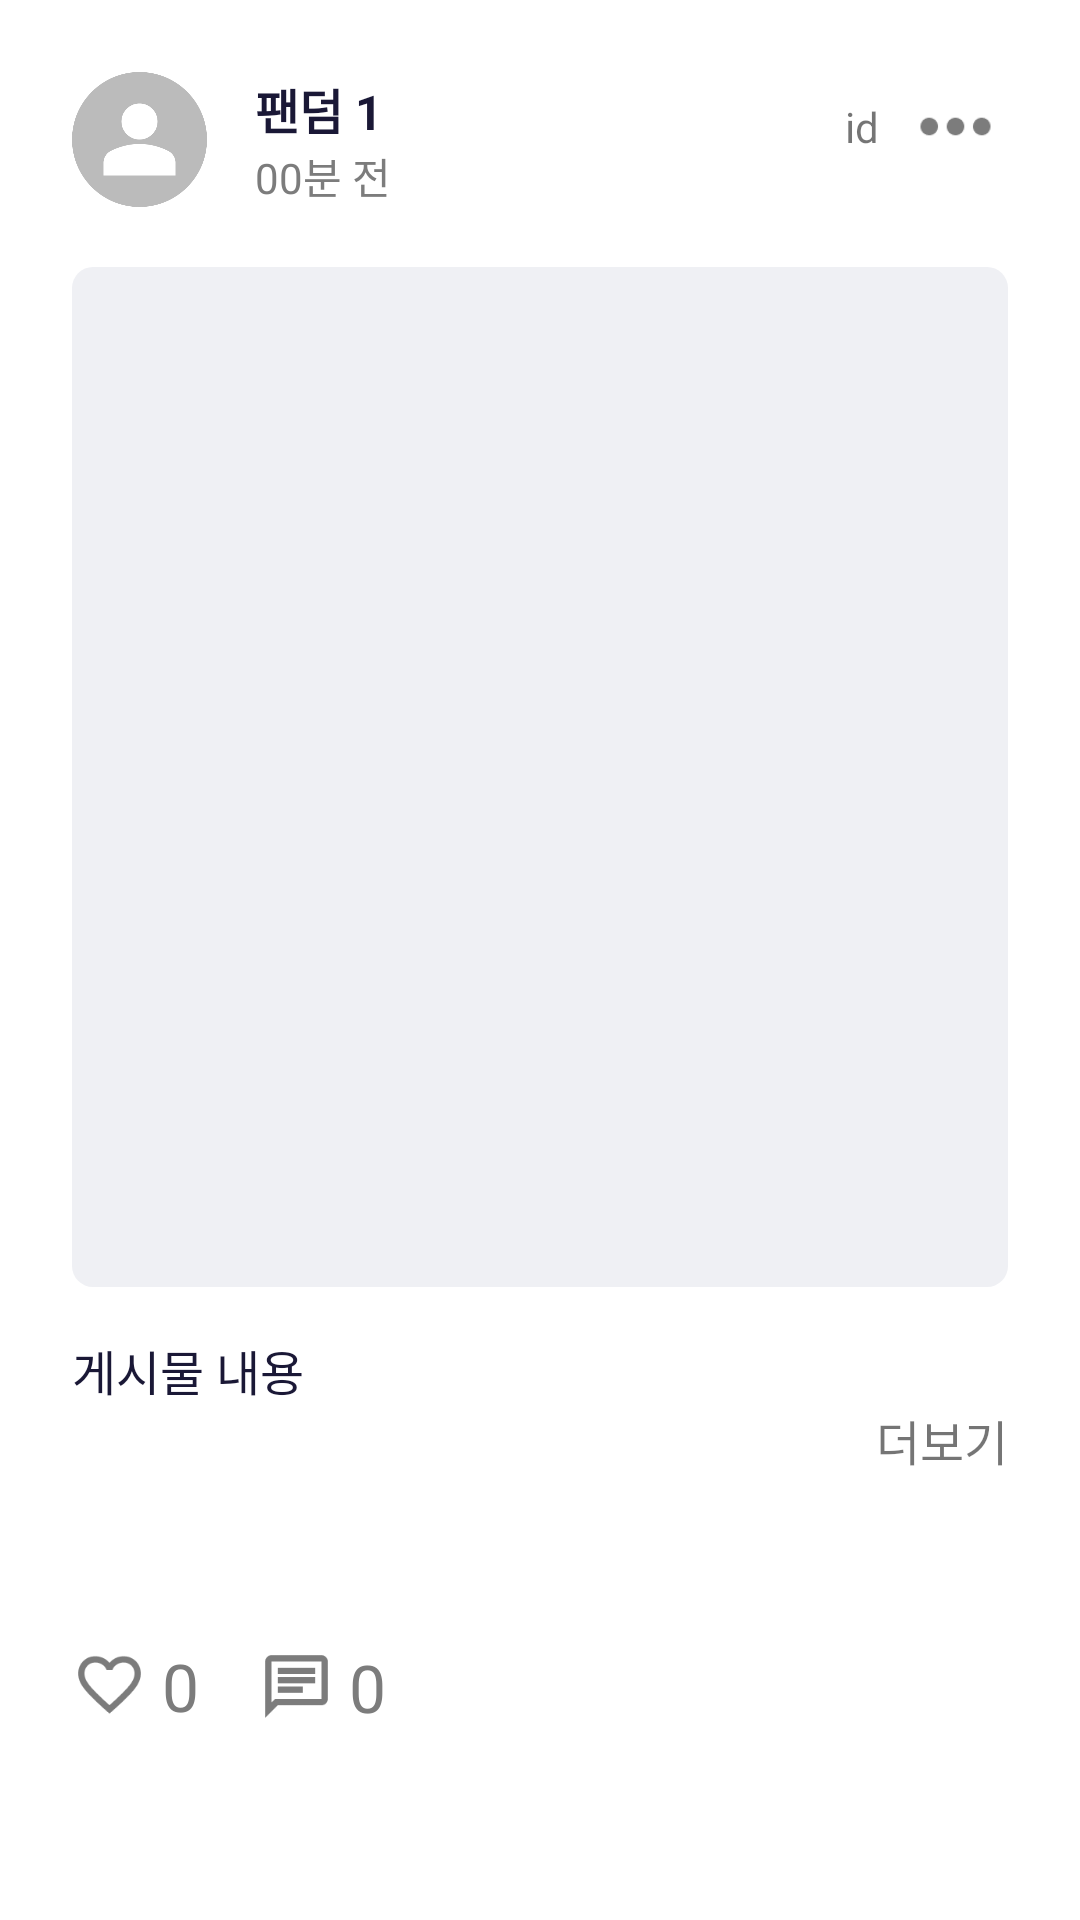

Screen size 1080×1920. Icon name, then its box in pixels as [x1,y1,x2,y2]:
comment: [265,1655,328,1718]
profile: [72,72,207,207]
